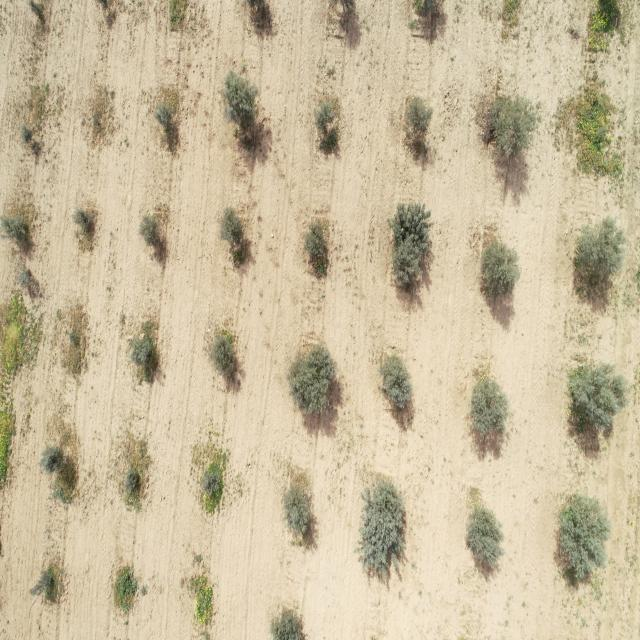olivier: (356, 480, 405, 581), (560, 495, 611, 581), (569, 363, 629, 430), (389, 202, 434, 290), (287, 343, 335, 414), (576, 215, 628, 277), (492, 95, 539, 157), (471, 377, 512, 435), (193, 445, 226, 516), (467, 506, 504, 569), (221, 69, 258, 129), (482, 240, 521, 296), (122, 434, 150, 510), (379, 354, 412, 409), (404, 95, 433, 157), (129, 320, 158, 382), (153, 85, 179, 151), (139, 205, 168, 260), (304, 217, 329, 276), (314, 98, 339, 153), (283, 487, 310, 537), (29, 563, 62, 603), (210, 329, 235, 377), (71, 204, 97, 250), (114, 567, 137, 614), (270, 610, 304, 640), (220, 207, 243, 245), (0, 214, 28, 242), (38, 445, 62, 474), (29, 0, 44, 21), (28, 137, 40, 156)
